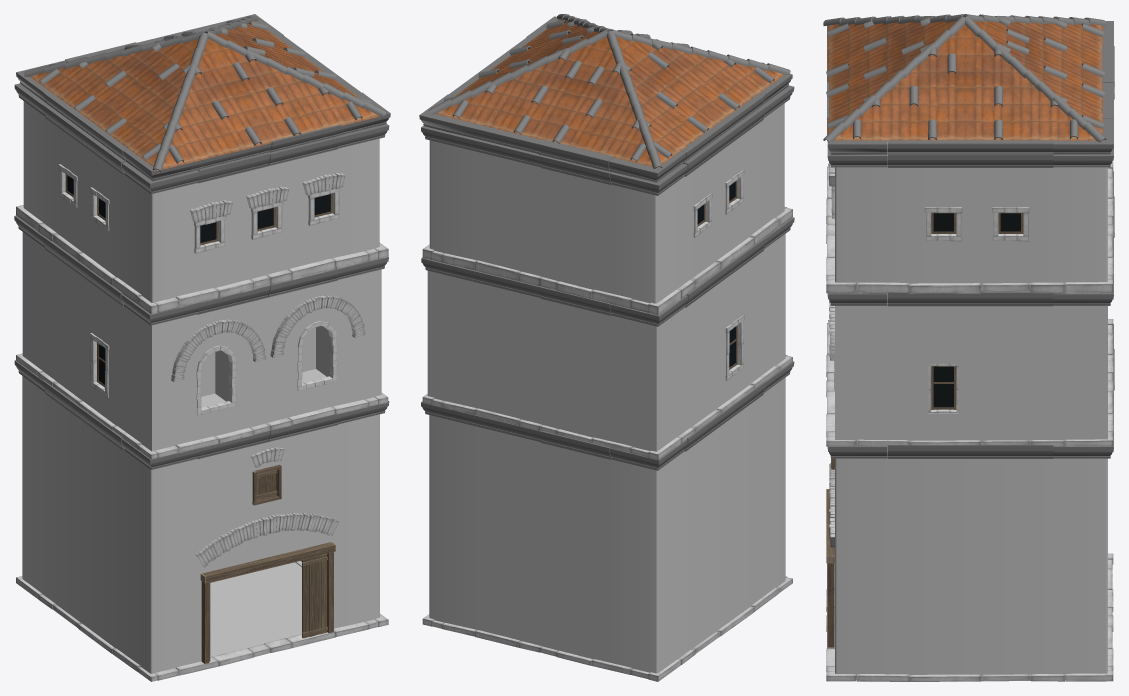
Rendered from SM_insulae_building_01.fbx.
3 views of the same model, side by side, from view 1: azimuth 30°, elevation 25°; view 2: azimuth 150°, elevation 25°; view 3: azimuth 270°, elevation 25° (orthographic). The views are drawn at different scales.
Parts seen in each view (by area): view 1: Box299; view 2: Box299; view 3: Box299.
Boxes of the visible parts, bbox=[...] form: Box299: bbox=[14, 14, 390, 681]; Box299: bbox=[419, 14, 794, 681]; Box299: bbox=[823, 14, 1114, 681].
Bounding box in the file's own units: 309 × 702 × 306.
